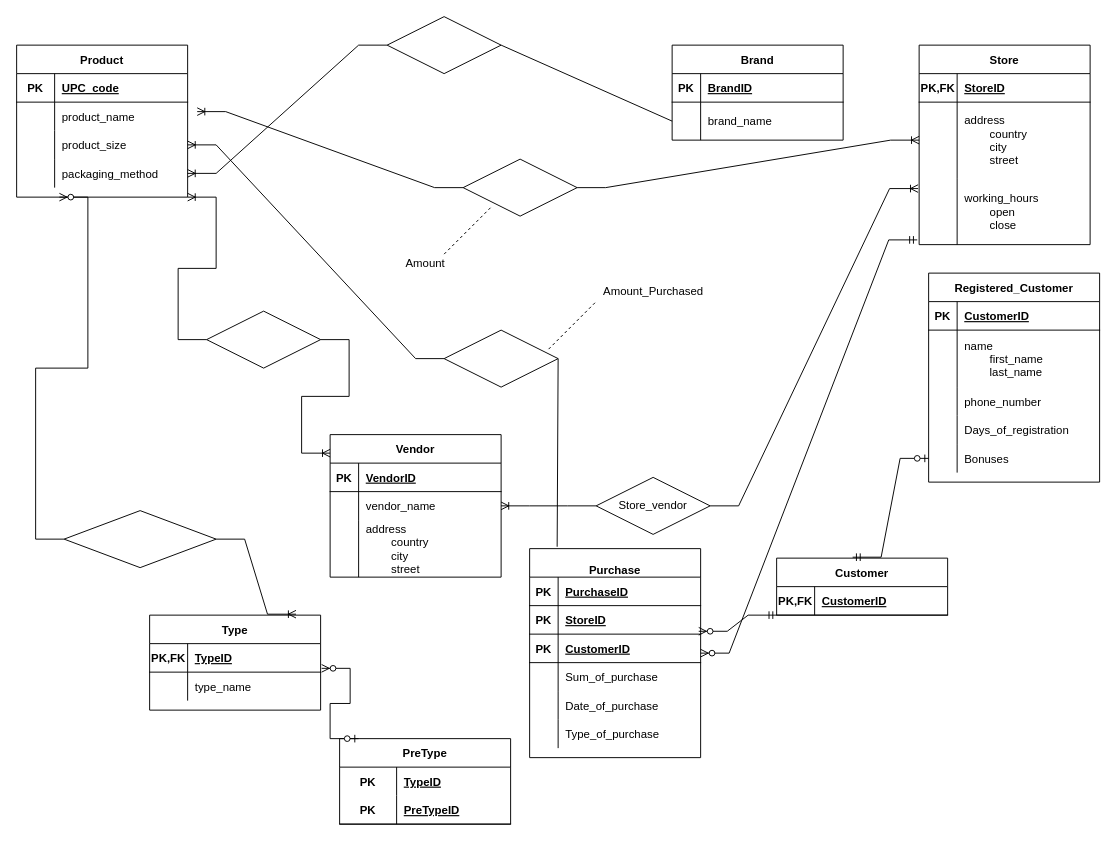
The diagram is 1116 pixels wide and 841 high, and some of its shapes have lost their labels. The centre of each missing label's shape, as x and y in pixels:
"Brand_Products" goes at point (443, 45).
"Prod_purchased" goes at point (500, 358).
"Product_Type" goes at point (139, 539).
"Store_Product" goes at point (519, 187).
"Vendor_Product" goes at point (263, 339).
